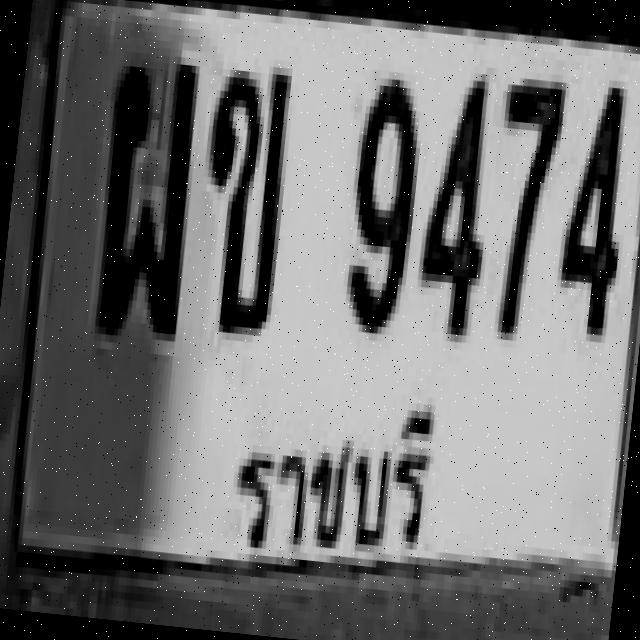11KhorKhai: (188, 56, 292, 332)
37PhorPhueng: (87, 50, 200, 334)
4: (412, 69, 497, 336), (552, 77, 632, 336)
7: (478, 69, 563, 336)
9: (337, 68, 425, 328)
Ratchaburi: (209, 374, 468, 590)
